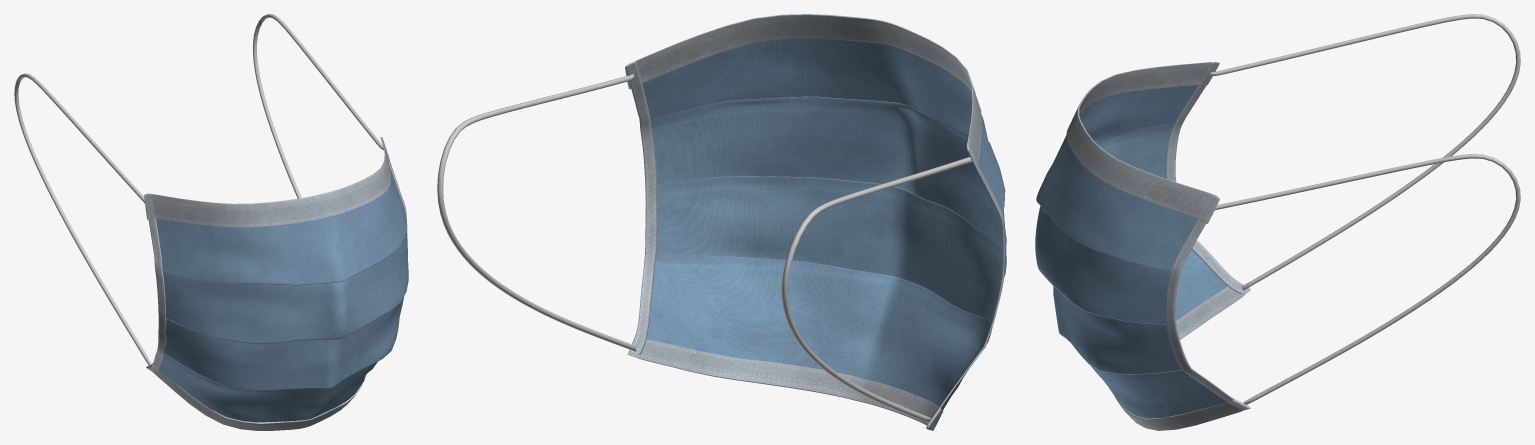
The picture shows the model from 3 angles, left to right: view 1: azimuth 30°, elevation 25°; view 2: azimuth 150°, elevation 25°; view 3: azimuth 270°, elevation 25°; orthographic projection. The views are drawn at different scales.
Parts seen in each view (by area): view 1: initialShadingGroup_mask_2, initialShadingGroup_mask_1, initialShadingGroup_strap; view 2: initialShadingGroup_mask_2, initialShadingGroup_mask_1, initialShadingGroup_strap; view 3: initialShadingGroup_mask_2, initialShadingGroup_mask_1, initialShadingGroup_strap.
Part boxes in pixels (box(x1,y1,x2,y2)): initialShadingGroup_mask_2: box(156, 167, 408, 422); initialShadingGroup_mask_1: box(144, 137, 407, 430); initialShadingGroup_strap: box(14, 14, 383, 365); initialShadingGroup_mask_2: box(642, 38, 1006, 410); initialShadingGroup_mask_1: box(625, 14, 1005, 430); initialShadingGroup_strap: box(437, 74, 972, 422); initialShadingGroup_mask_2: box(1035, 85, 1227, 418); initialShadingGroup_mask_1: box(1066, 62, 1250, 430); initialShadingGroup_strap: box(1209, 14, 1520, 404).
Bounding box in the file's own units: 1.54 × 1.6 × 2.2.
